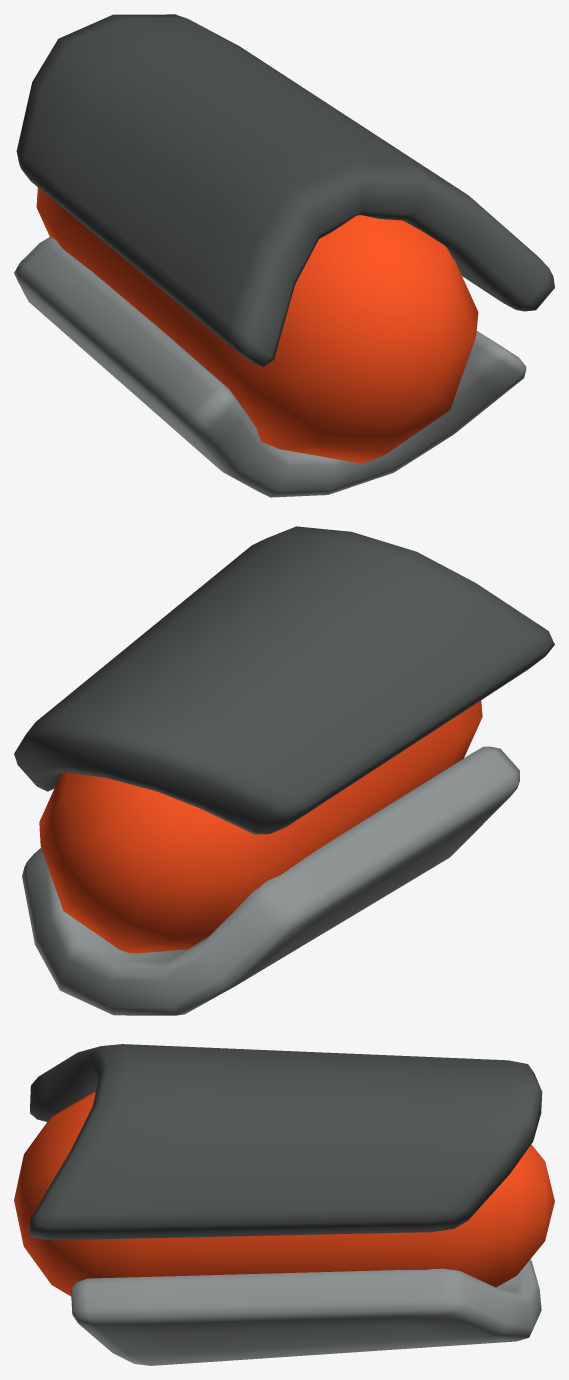
File: xsens_LeftThirdMP.dae
3 renders of one model, top to bottom at view 1: azimuth 30°, elevation 25°; view 2: azimuth 150°, elevation 25°; view 3: azimuth 270°, elevation 25°, orthographic. The views are drawn at different scales.
Visible parts, largest first — view 1: LeftThirdMP; view 2: LeftThirdMP; view 3: LeftThirdMP.
Part boxes in pixels (x1,y1,x2,y2): LeftThirdMP: (14,14,554,497); LeftThirdMP: (14,526,554,1015); LeftThirdMP: (14,1044,554,1365).
Size of the model in its own units: 0.0185 by 0.0307 by 0.0182.
